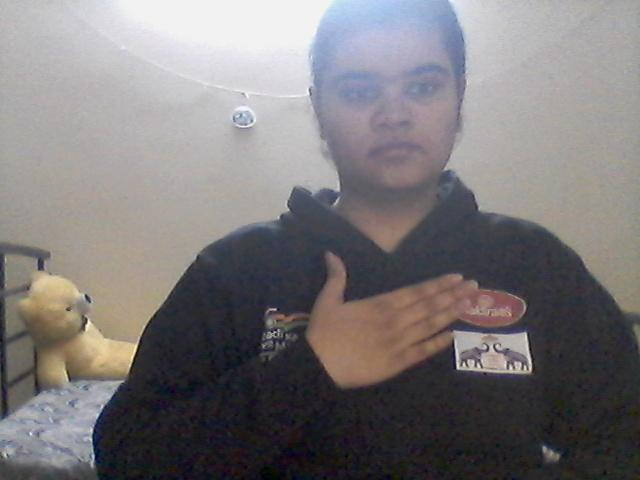please: (305, 239, 482, 394)
